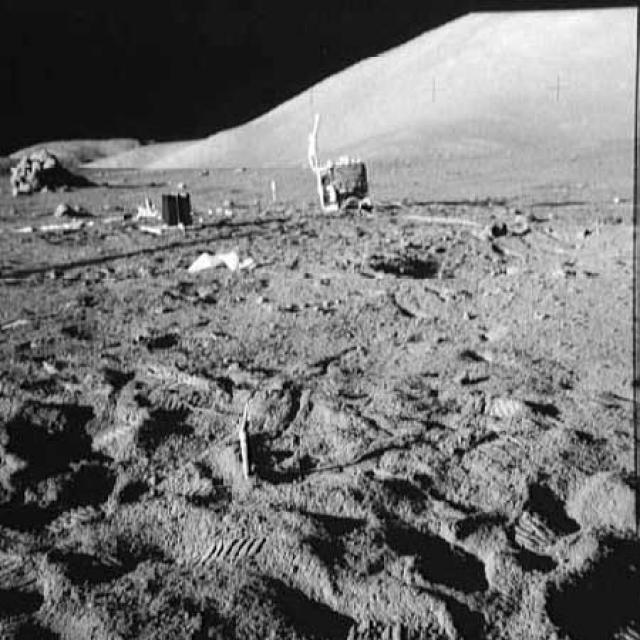artifact: (292, 101, 392, 214), (132, 185, 202, 234)
crater: (369, 251, 514, 280)
rock: (3, 138, 81, 192)
